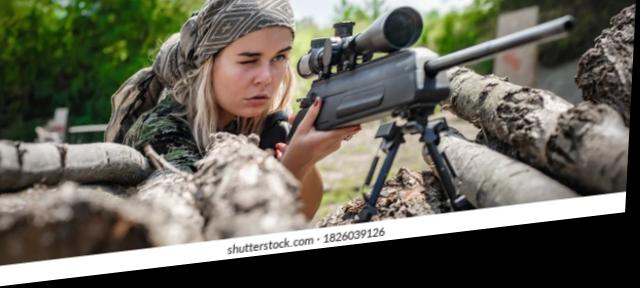other: (98, 0, 305, 219)
